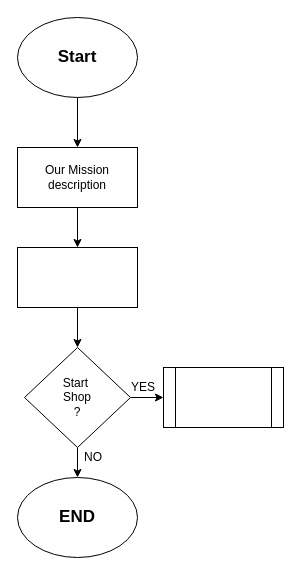
Image size: 301x575. Some labels were removed from this diagram. Here are the shapes that lost their labels. From the top down, the centre of each, then its label:
pixel 77 277: Starting Shop text
pixel 223 397: Seller Registration
